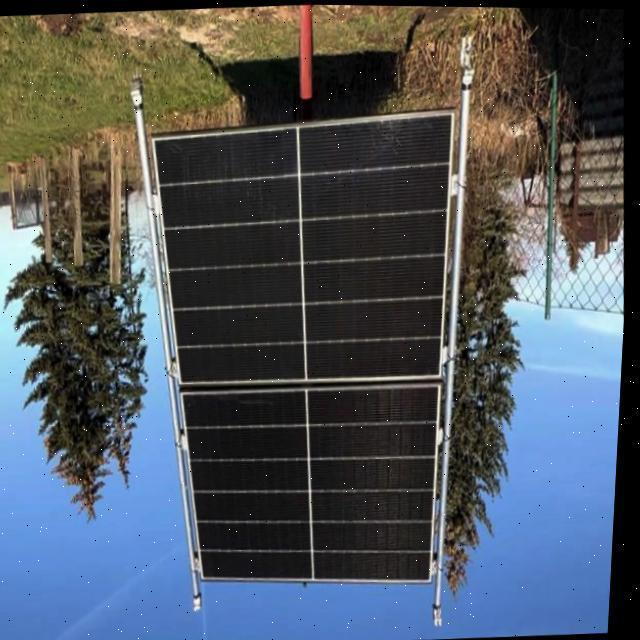Normal Solar Panel: (135, 104, 482, 596)
